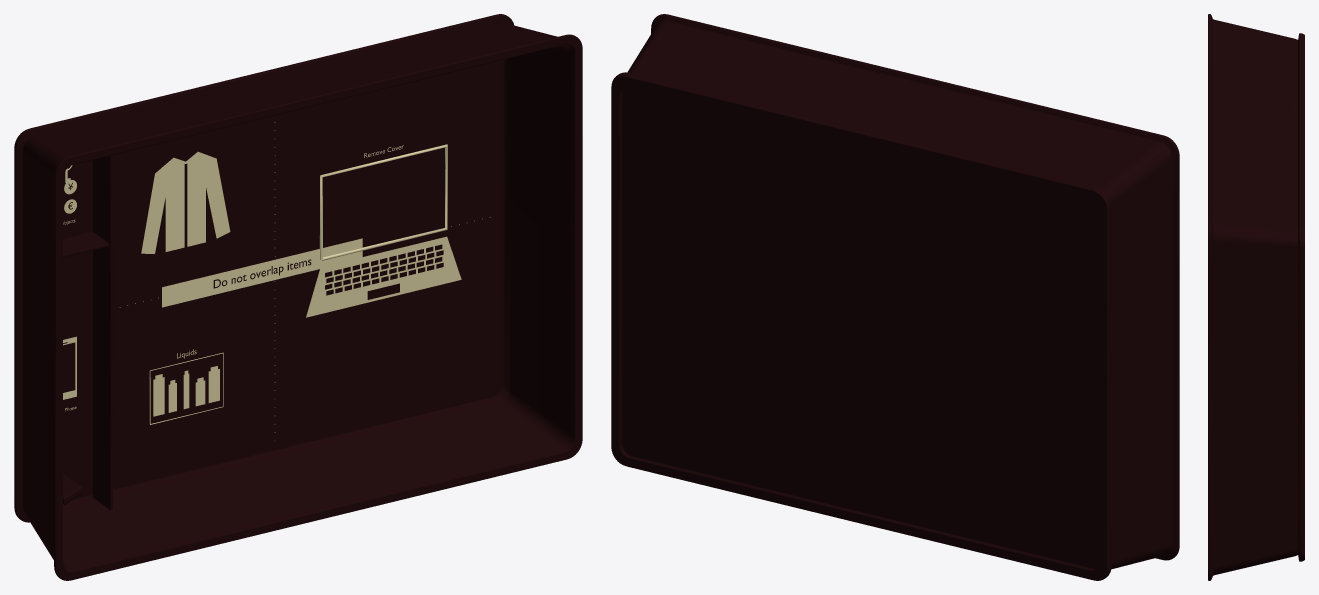
The model's file is tray.obj.
The picture shows the model from 3 angles, left to right: view 1: azimuth 30°, elevation 25°; view 2: azimuth 150°, elevation 25°; view 3: azimuth 270°, elevation 25°; orthographic projection. The views are drawn at different scales.
Visible parts, largest first — view 1: Tray_560x430x105mm; view 2: Tray_560x430x105mm; view 3: Tray_560x430x105mm.
Part boxes in pixels (x1,y1,x2,y2): Tray_560x430x105mm: [14, 14, 582, 580]; Tray_560x430x105mm: [611, 14, 1179, 580]; Tray_560x430x105mm: [1208, 14, 1304, 580].
Size of the model in its own units: 0.56 by 0.43 by 0.105.
